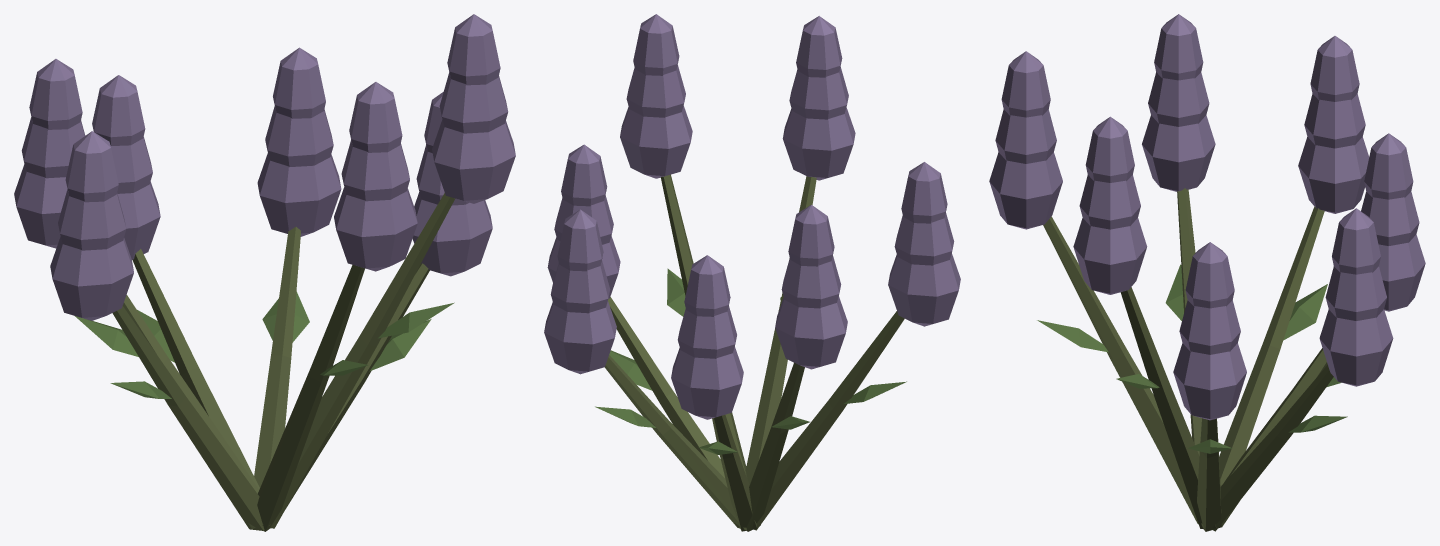
Rendered from Plant_Feature_Hills_HeatherTuft_001.glb.
3 renders of one model, left to right at view 1: azimuth 30°, elevation 25°; view 2: azimuth 150°, elevation 25°; view 3: azimuth 270°, elevation 25°, orthographic. The views are drawn at different scales.
Parts seen in each view (by area): view 1: Plant_Feature_Hills_HeatherTuft_001; view 2: Plant_Feature_Hills_HeatherTuft_001; view 3: Plant_Feature_Hills_HeatherTuft_001.
Part boxes in pixels (left/top/right/bottom): Plant_Feature_Hills_HeatherTuft_001: left=14, top=14, right=515, bottom=531; Plant_Feature_Hills_HeatherTuft_001: left=544, top=14, right=960, bottom=531; Plant_Feature_Hills_HeatherTuft_001: left=989, top=14, right=1425, bottom=531.
Size of the model in its own units: 1.2 by 1.3 by 1.06.
